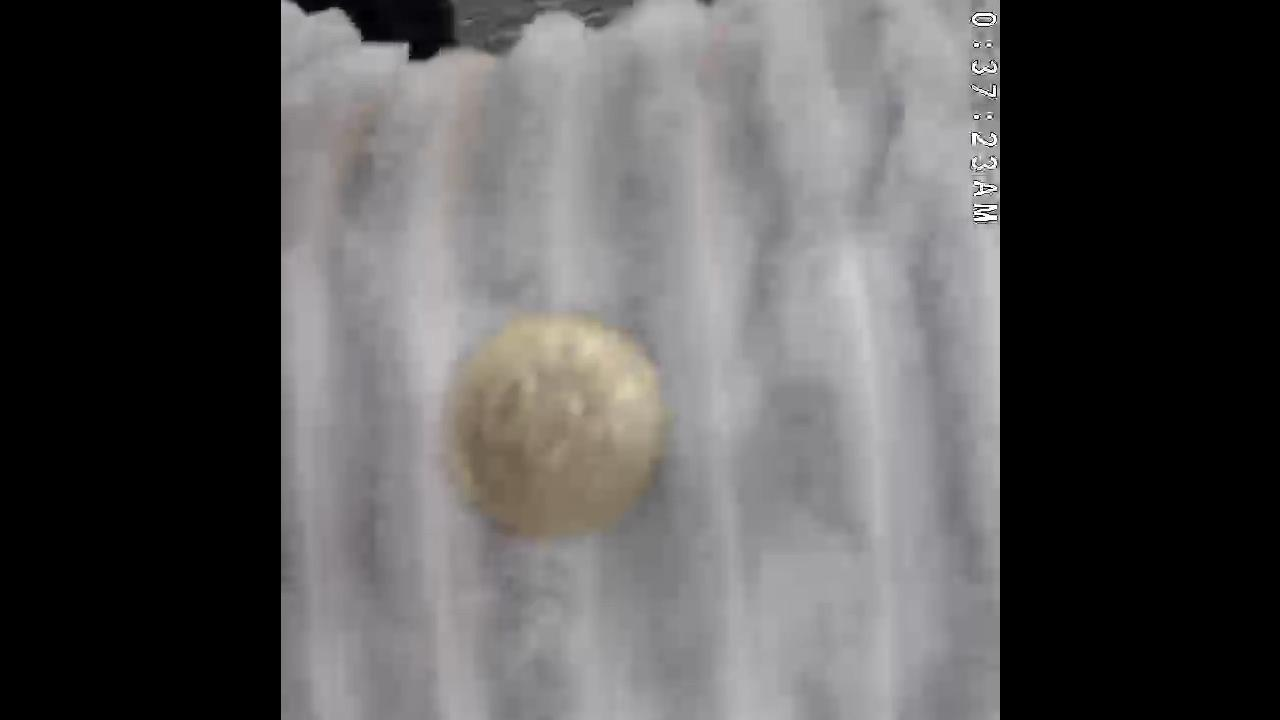coin: (446, 305, 675, 546)
